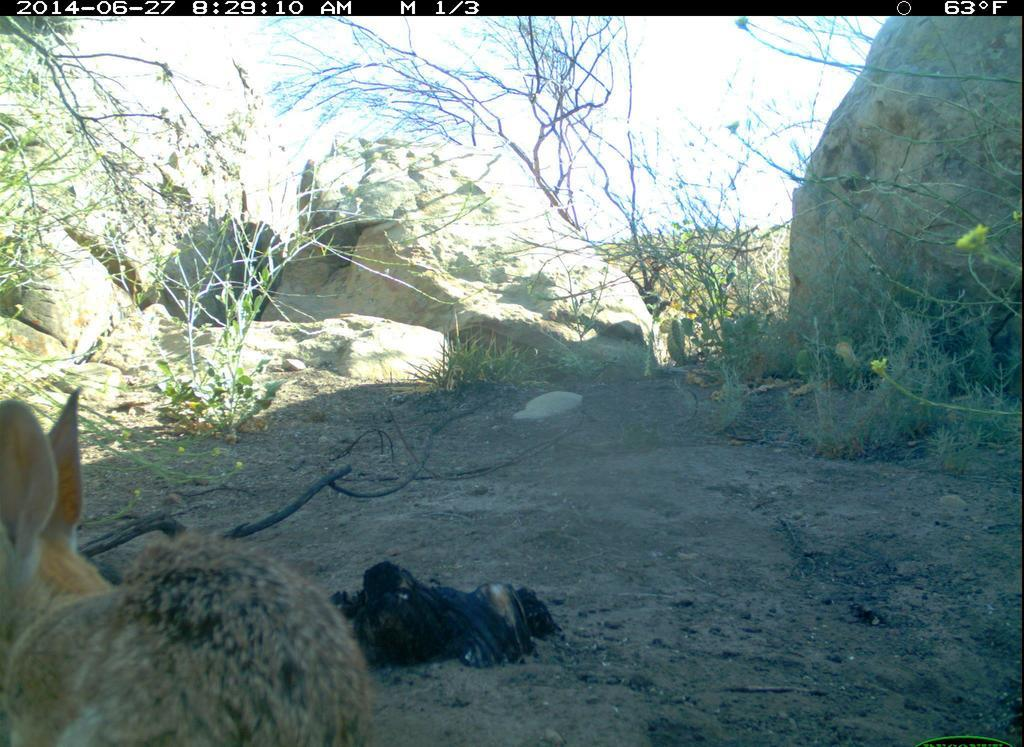rabbit: (7, 377, 370, 745)
